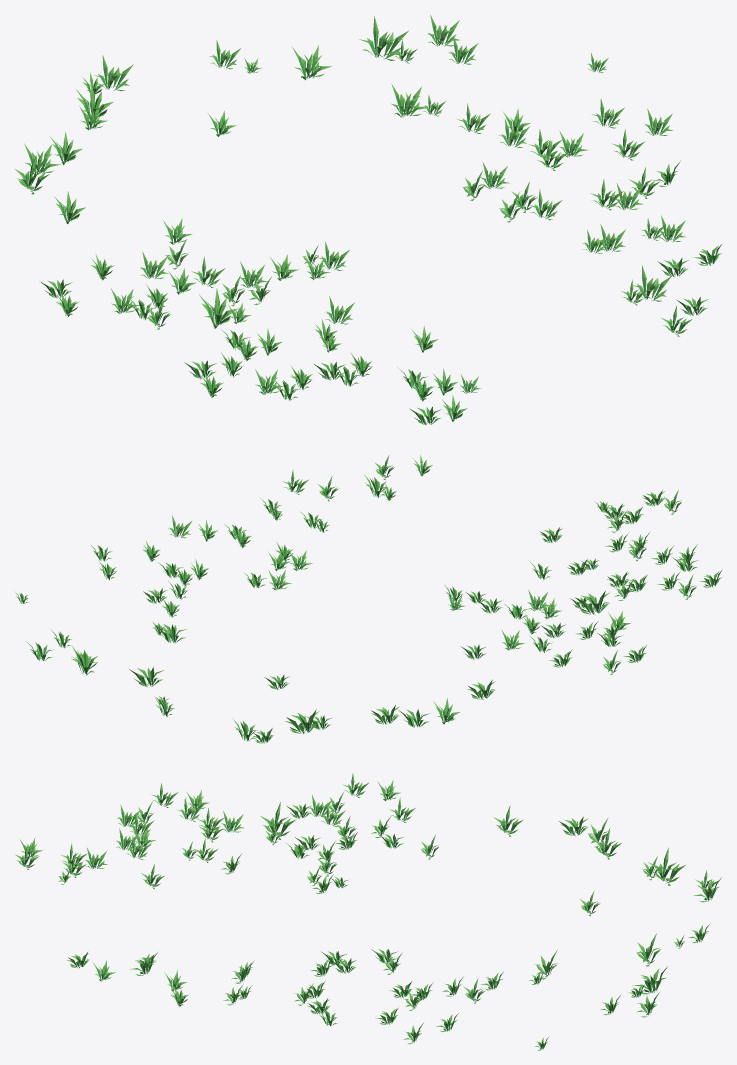
Rendered from Area_01_3.fbx.
3 renders of one model, top to bottom at view 1: azimuth 30°, elevation 25°; view 2: azimuth 150°, elevation 25°; view 3: azimuth 270°, elevation 25°, orthographic. The views are drawn at different scales.
Parts seen in each view (by area): view 1: Area_01_3; view 2: Area_01_3; view 3: Area_01_3.
Part boxes in pixels (x1=…): Area_01_3: x1=15, y1=15, x2=721, y2=424; Area_01_3: x1=15, y1=455, x2=722, y2=743; Area_01_3: x1=15, y1=773, x2=721, y2=1050.
Bounding box in the file's own units: 2690 × 140 × 3068.
